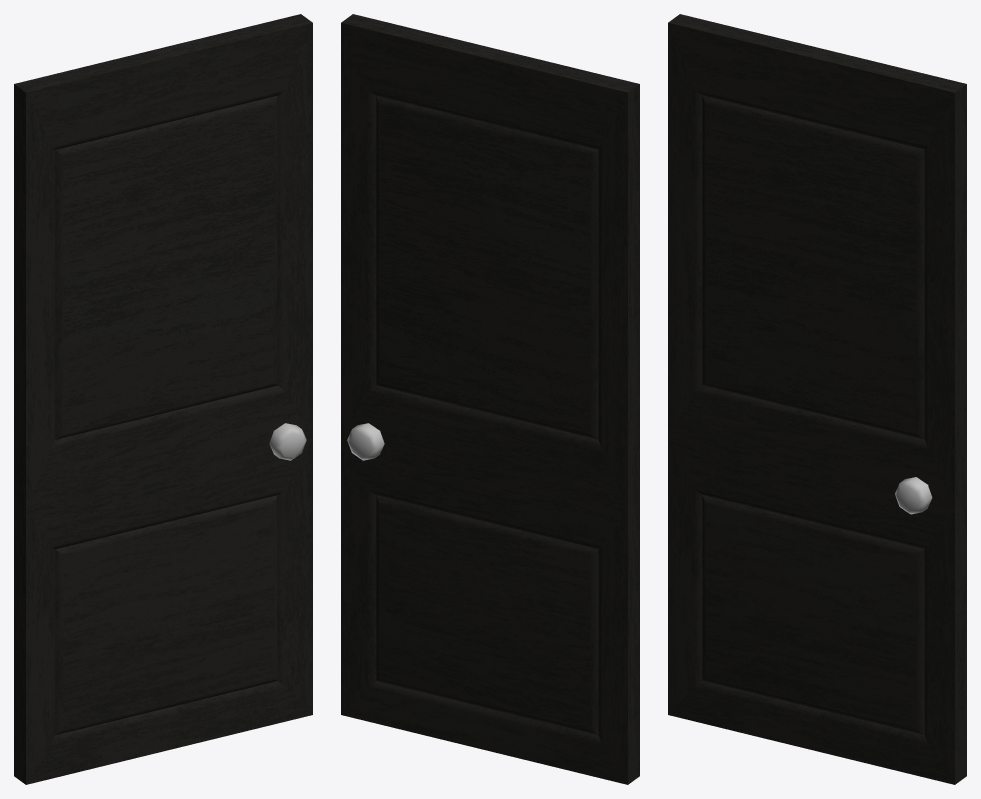
File: door_010.fbx
3 renders of one model, left to right at view 1: azimuth 30°, elevation 25°; view 2: azimuth 150°, elevation 25°; view 3: azimuth 330°, elevation 25°, orthographic.
Parts seen in each view (by area): view 1: door_010; view 2: door_010; view 3: door_010.
Boxes of the visible parts, x1=… form: door_010: x1=14, y1=14, x2=312, y2=784; door_010: x1=341, y1=14, x2=639, y2=784; door_010: x1=668, y1=14, x2=966, y2=784.
Bounding box in the file's own units: 95.15 × 23.13 × 219.
